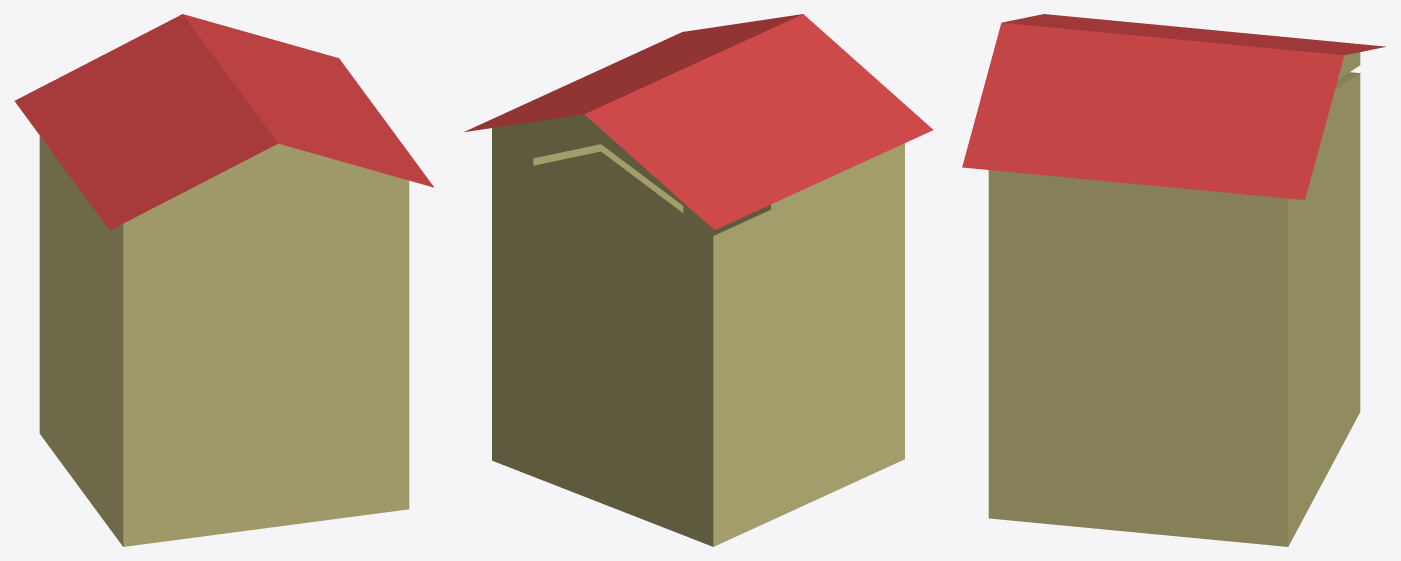
3 views of the same model, side by side, from view 1: azimuth 30°, elevation 25°; view 2: azimuth 150°, elevation 25°; view 3: azimuth 270°, elevation 25° (orthographic). The views are drawn at different scales.
Size of the model in its own units: 4.98 by 4.8 by 5.35.
